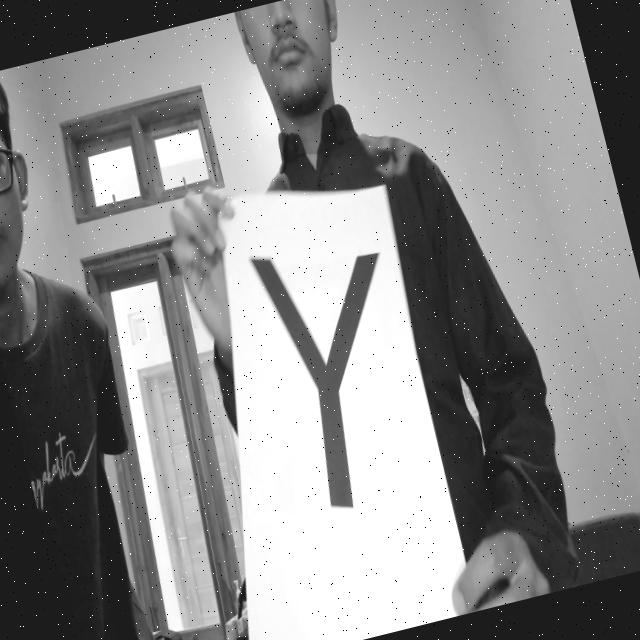y: (229, 201, 461, 528)
